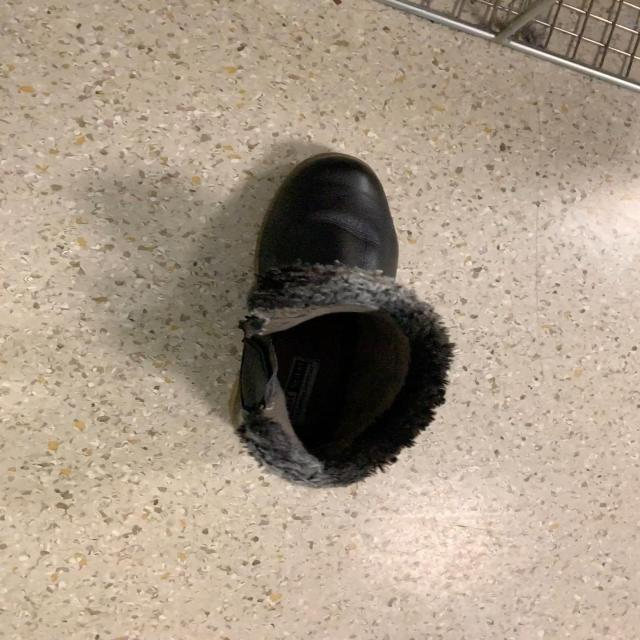shoe: (232, 152, 451, 491)
